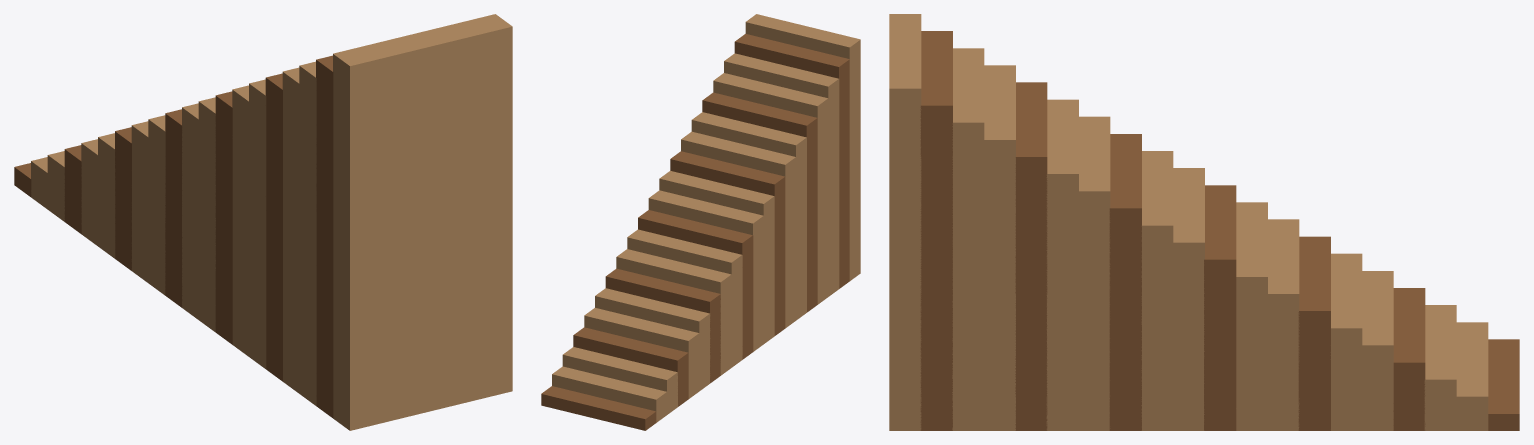
The model's file is yx_stairs_oak.glb.
The picture shows the model from 3 angles, left to right: view 1: azimuth 30°, elevation 25°; view 2: azimuth 150°, elevation 25°; view 3: azimuth 270°, elevation 25°; orthographic projection. The views are drawn at different scales.
Parts seen in each view (by area): view 1: yx_stairs_oak; view 2: yx_stairs_oak; view 3: yx_stairs_oak.
Part boxes in pixels (x1,y1,x2,y2): yx_stairs_oak: [14, 14, 512, 430]; yx_stairs_oak: [541, 14, 860, 430]; yx_stairs_oak: [889, 14, 1519, 430].
Bounding box in the file's own units: 1.4 × 3 × 5.01.
